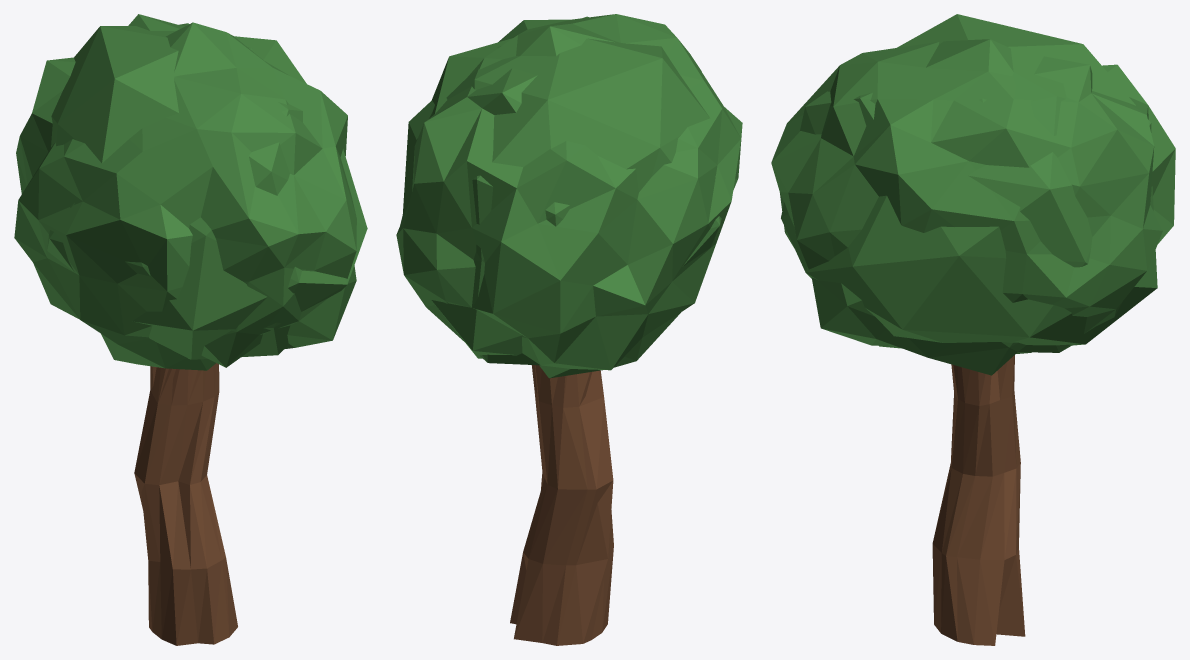
The model's file is SurvivalNormalTree.fbx.
3 renders of one model, left to right at view 1: azimuth 30°, elevation 25°; view 2: azimuth 150°, elevation 25°; view 3: azimuth 270°, elevation 25°, orthographic. The views are drawn at different scales.
Parts seen in each view (by area): view 1: GeneratedLeaves, LOD_Test, GeneratedBranch, Overrided_LOD; view 2: GeneratedLeaves, LOD_Test, GeneratedBranch, Overrided_LOD; view 3: GeneratedLeaves, LOD_Test, GeneratedBranch.
Boxes of the visible parts, bbox=[...] form: GeneratedLeaves: bbox=[14, 14, 356, 370]; LOD_Test: bbox=[47, 25, 367, 359]; GeneratedBranch: bbox=[141, 363, 237, 645]; Overrided_LOD: bbox=[134, 367, 201, 510]; GeneratedLeaves: bbox=[396, 14, 742, 378]; LOD_Test: bbox=[402, 16, 721, 358]; GeneratedBranch: bbox=[510, 365, 613, 645]; Overrided_LOD: bbox=[577, 371, 613, 561]; GeneratedLeaves: bbox=[771, 39, 1175, 375]; LOD_Test: bbox=[781, 14, 1157, 348]; GeneratedBranch: bbox=[932, 355, 1025, 645].
Size of the model in its own units: 564 by 1145 by 712.
